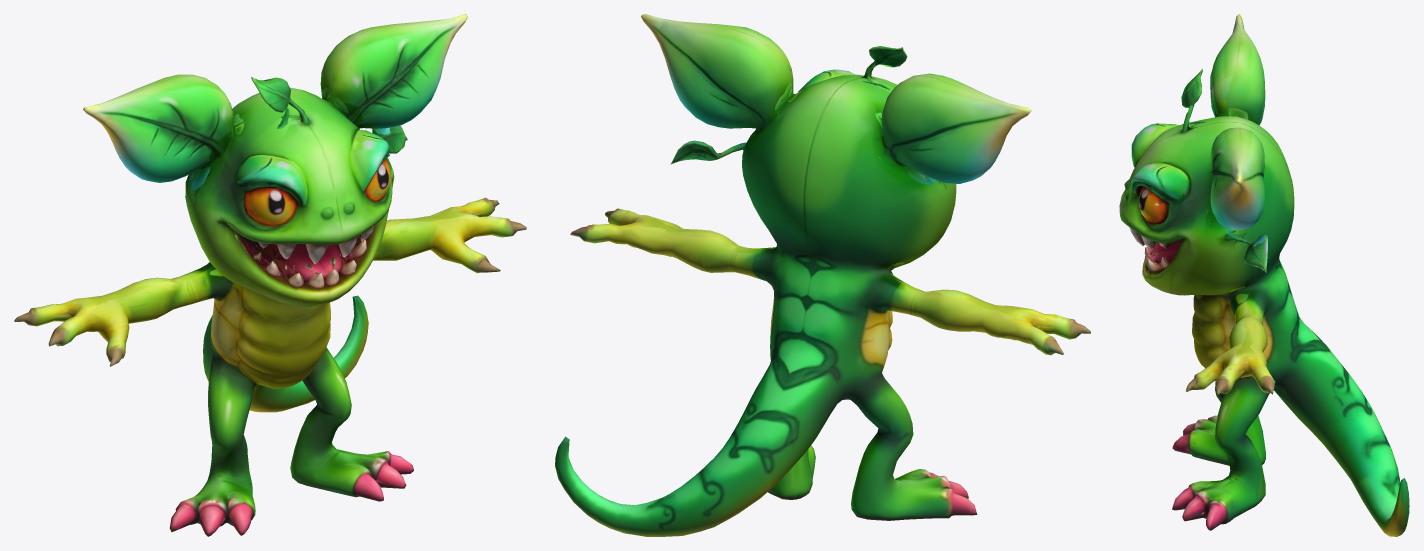
The model's file is Meshy_AI_Leafy_Grin_Goblin_0118115938_texture.fbx.
The picture shows the model from 3 angles, left to right: view 1: azimuth 30°, elevation 25°; view 2: azimuth 150°, elevation 25°; view 3: azimuth 270°, elevation 25°; orthographic projection. The views are drawn at different scales.
Parts seen in each view (by area): view 1: Mesh1.0; view 2: Mesh1.0; view 3: Mesh1.0.
Part boxes in pixels (x1,y1,x2,y2): Mesh1.0: (14, 14, 526, 536); Mesh1.0: (555, 14, 1090, 536); Mesh1.0: (1119, 14, 1409, 536).
Size of the model in its own units: 191 by 166 by 111.
1 material, 1 textured.
